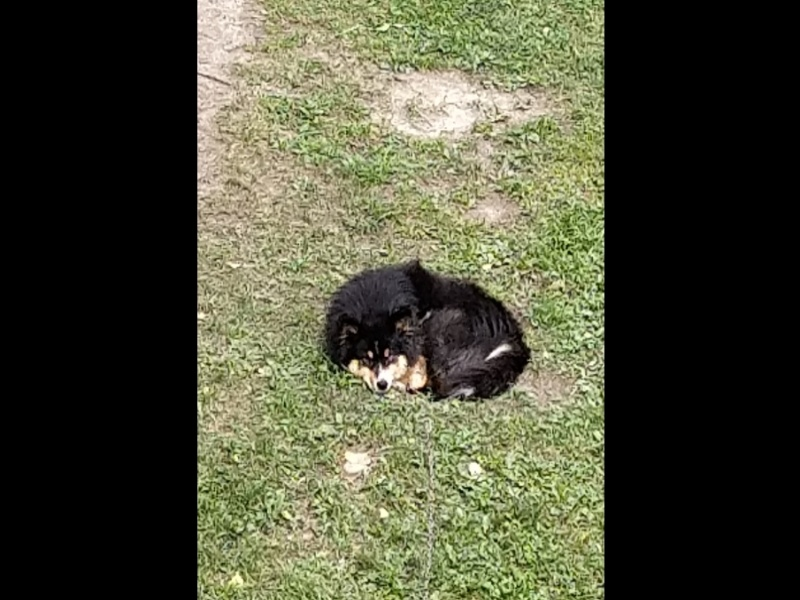dog: (319, 262, 542, 408)
